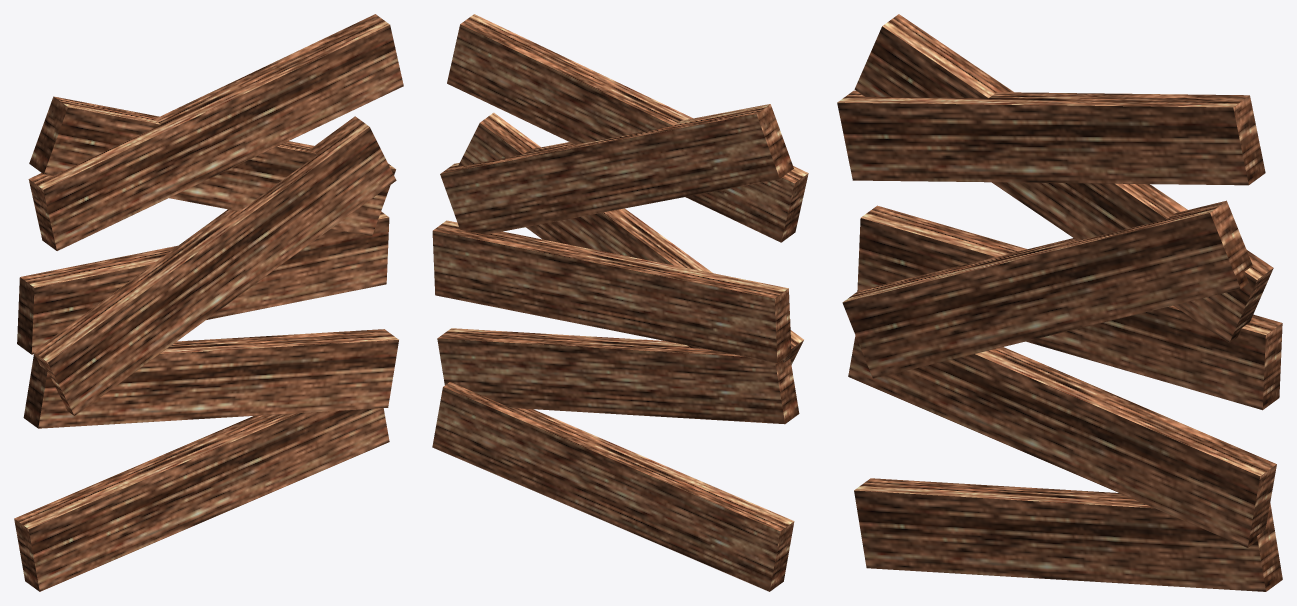
File: psx_planks.glb
3 renders of one model, left to right at view 1: azimuth 30°, elevation 25°; view 2: azimuth 150°, elevation 25°; view 3: azimuth 330°, elevation 25°, orthographic. The views are drawn at different scales.
Parts seen in each view (by area): view 1: Object_2; view 2: Object_2; view 3: Object_2.
Boxes of the visible parts, <box> form: Object_2: <box>14,14,403,591</box>; Object_2: <box>432,14,808,591</box>; Object_2: <box>837,14,1282,591</box>.
Bounding box in the file's own units: 1.79 × 2.33 × 0.25.
1 material, 1 textured.
